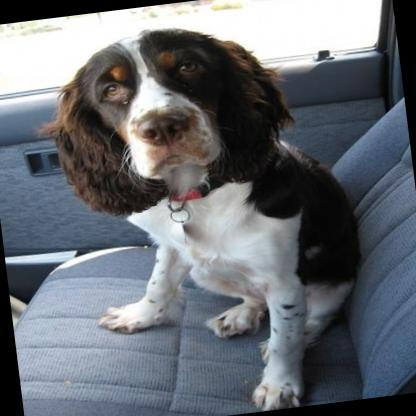English_springer: (41, 1, 375, 416)
